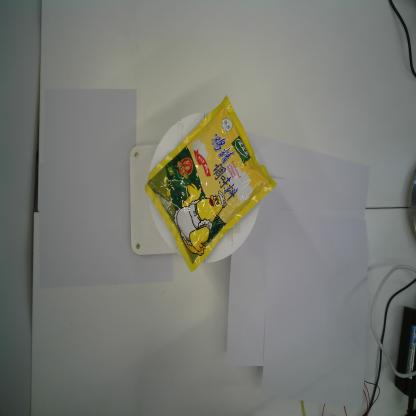Seasoner: (144, 92, 278, 274)
